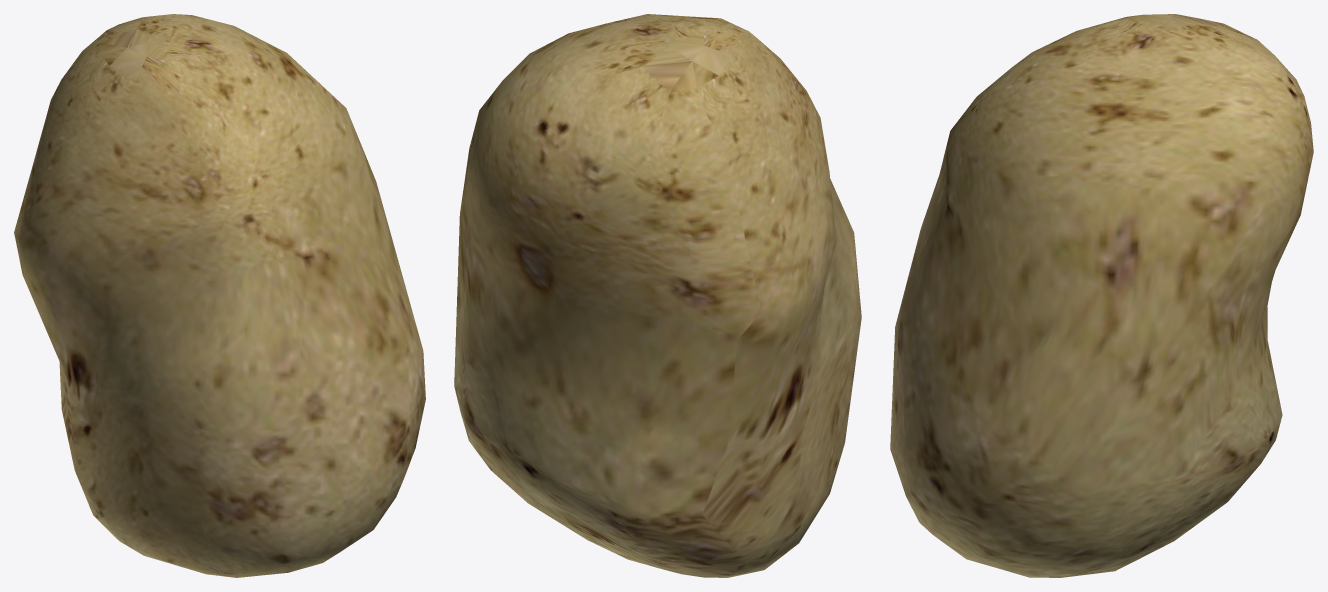
File: POTATOE.fbx
The picture shows the model from 3 angles, left to right: view 1: azimuth 30°, elevation 25°; view 2: azimuth 150°, elevation 25°; view 3: azimuth 270°, elevation 25°; orthographic projection. The views are drawn at different scales.
Parts seen in each view (by area): view 1: POTATO; view 2: POTATO; view 3: POTATO.
Boxes of the visible parts, x1=… form: POTATO: x1=14, y1=14, x2=425, y2=577; POTATO: x1=454, y1=14, x2=861, y2=577; POTATO: x1=890, y1=14, x2=1313, y2=577.
Bounding box in the file's own units: 4.18 × 5.82 × 4.42.
Materials: 1 (1 with a texture image).
